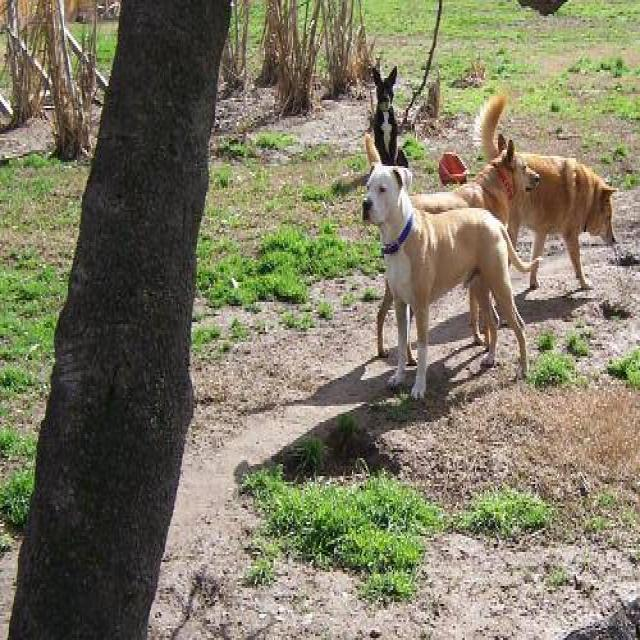dog: (361, 130, 540, 400), (472, 92, 617, 290)
